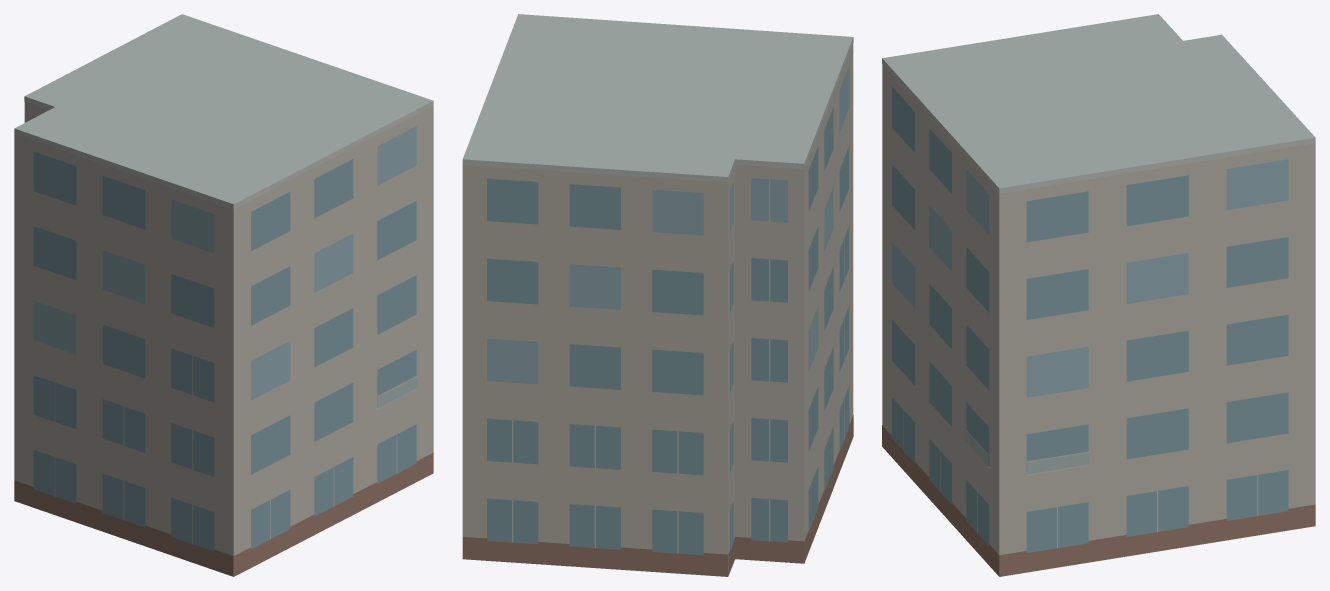
File: survey-upis-32867741.glb
The picture shows the model from 3 angles, left to right: view 1: azimuth 30°, elevation 25°; view 2: azimuth 150°, elevation 25°; view 3: azimuth 270°, elevation 25°; orthographic projection. The views are drawn at different scales.
Parts seen in each view (by area): view 1: survey-upis-32867741.tmp; view 2: survey-upis-32867741.tmp; view 3: survey-upis-32867741.tmp.
Part boxes in pixels (x1,y1,x2,y2): survey-upis-32867741.tmp: (14, 14, 433, 576); survey-upis-32867741.tmp: (462, 14, 853, 576); survey-upis-32867741.tmp: (882, 14, 1315, 576).
Size of the model in its own units: 16.91 by 17.55 by 17.76.
